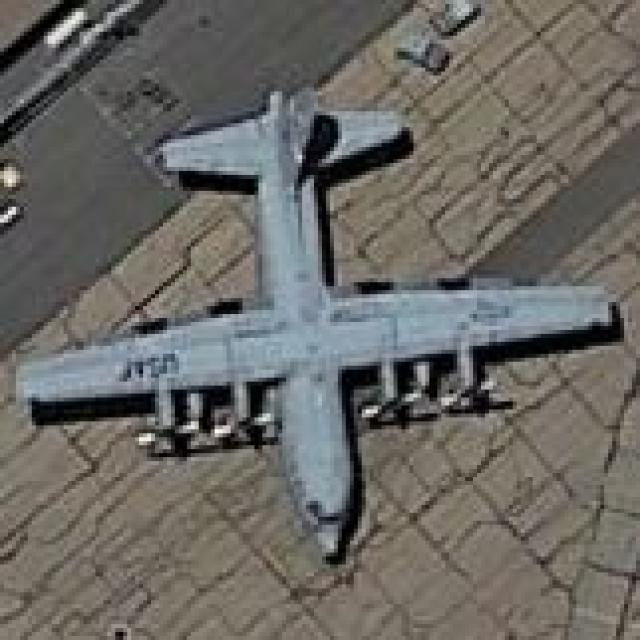C-130_TopDown: (10, 75, 629, 572)
